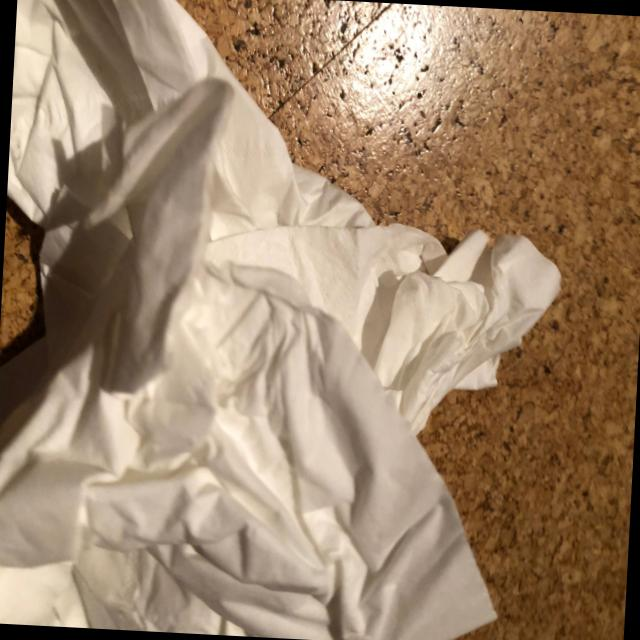organic waste: (0, 57, 523, 640), (0, 0, 573, 450)
